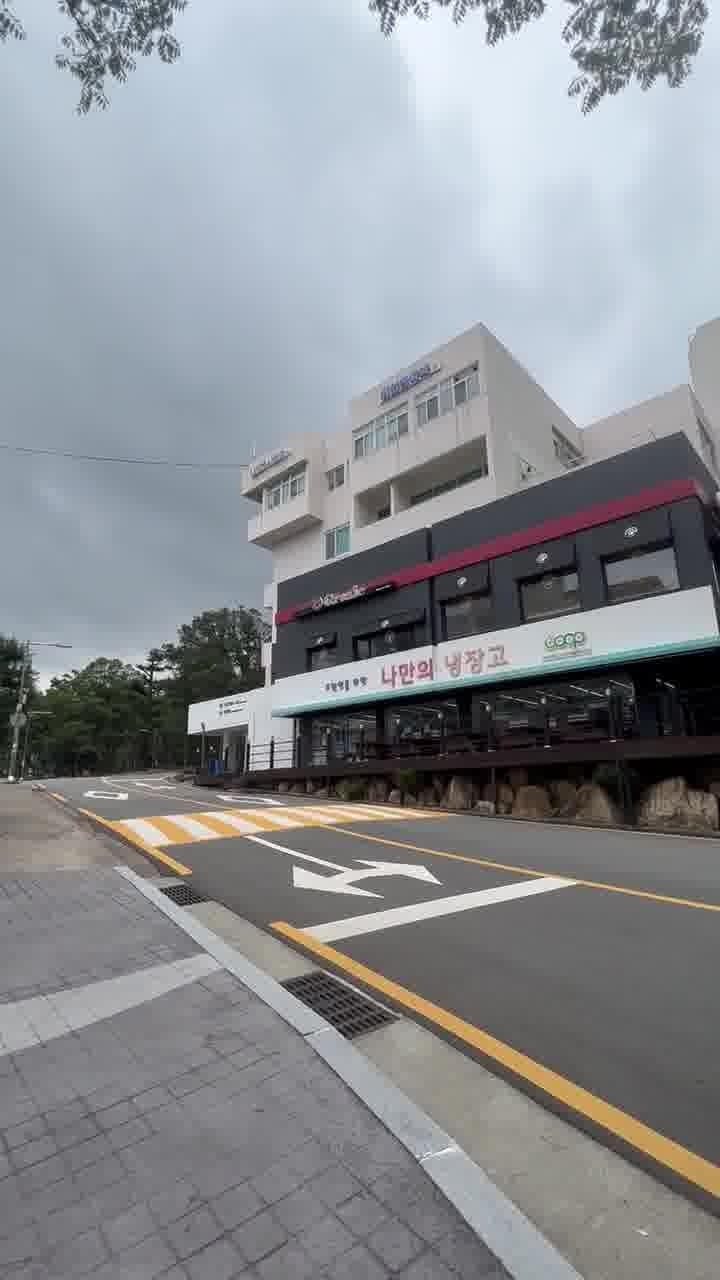building: (206, 324, 720, 784)
